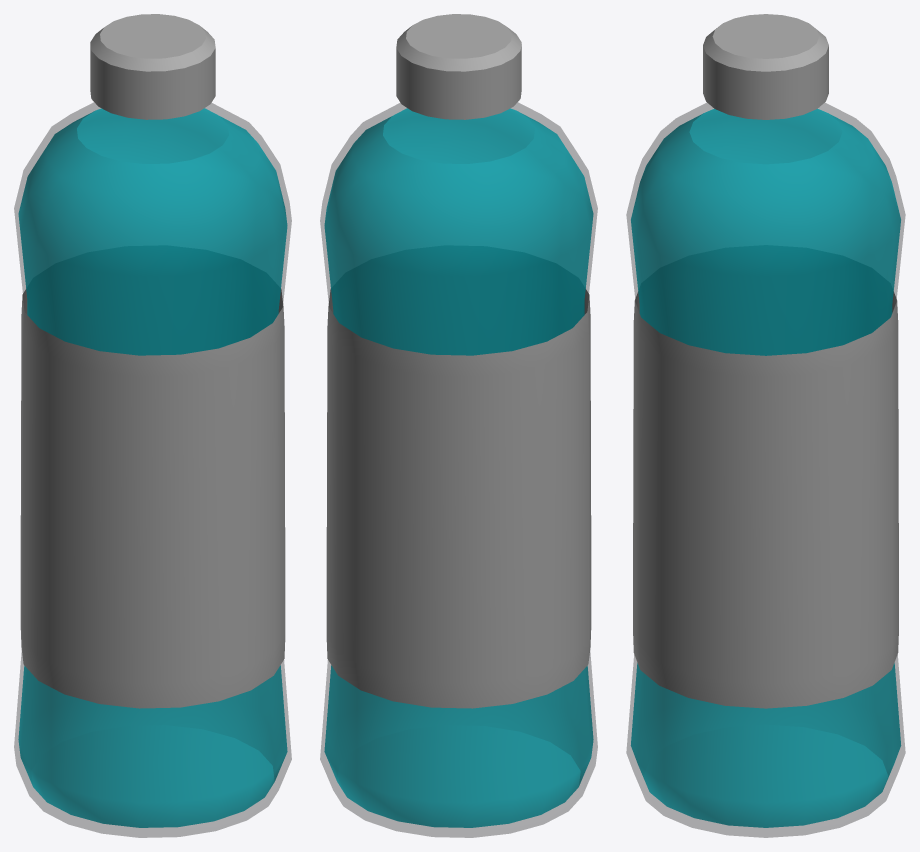
Rendered from foodWater.fbx.
3 renders of one model, left to right at view 1: azimuth 30°, elevation 25°; view 2: azimuth 150°, elevation 25°; view 3: azimuth 270°, elevation 25°, orthographic.
Parts seen in each view (by area): view 1: logo, Main, water, top1; view 2: logo, Main, water, top1; view 3: logo, Main, water, top1.
Part boxes in pixels (<box>): logo: <box>20,289,285,708</box>; Main: <box>14,102,291,837</box>; water: <box>18,108,287,827</box>; top1: <box>90,14,215,119</box>; logo: <box>326,289,591,708</box>; Main: <box>320,102,597,837</box>; water: <box>324,108,593,827</box>; top1: <box>396,14,521,119</box>; logo: <box>633,291,898,708</box>; Main: <box>626,103,905,837</box>; water: <box>630,108,901,827</box>; top1: <box>703,14,828,119</box>.
Size of the model in its own units: 2 by 5.91 by 2.
